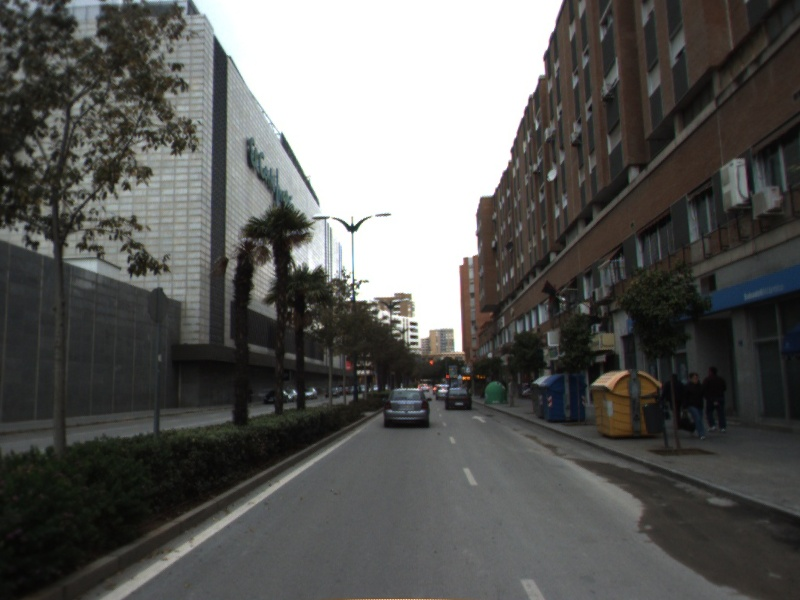STRAIGHT: (470, 413, 490, 425)
